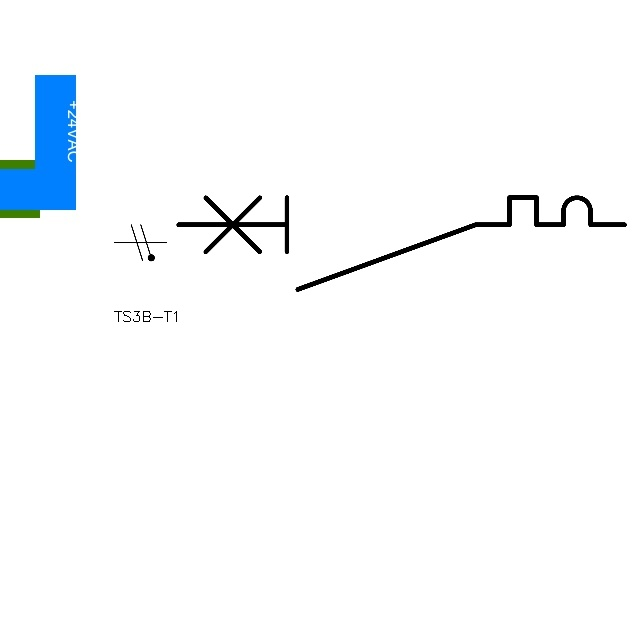interruptor_termomagnetico: (167, 186, 636, 301)
